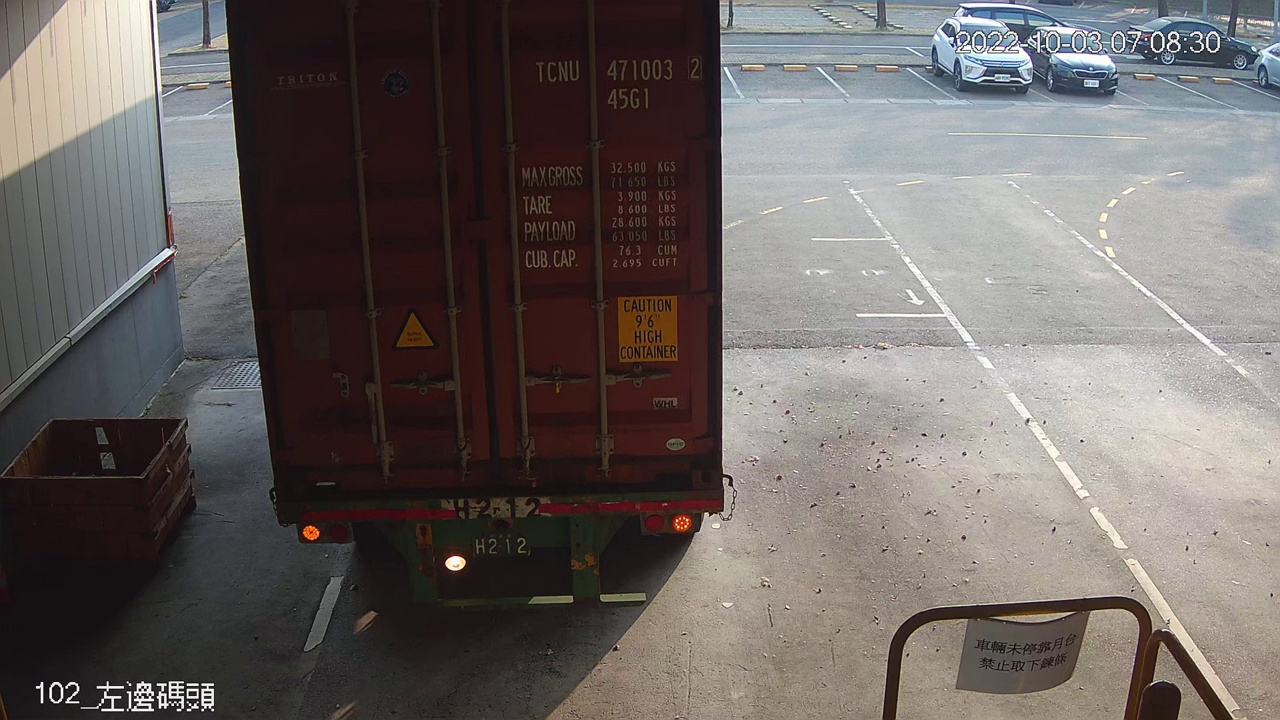container: (528, 47, 707, 117)
